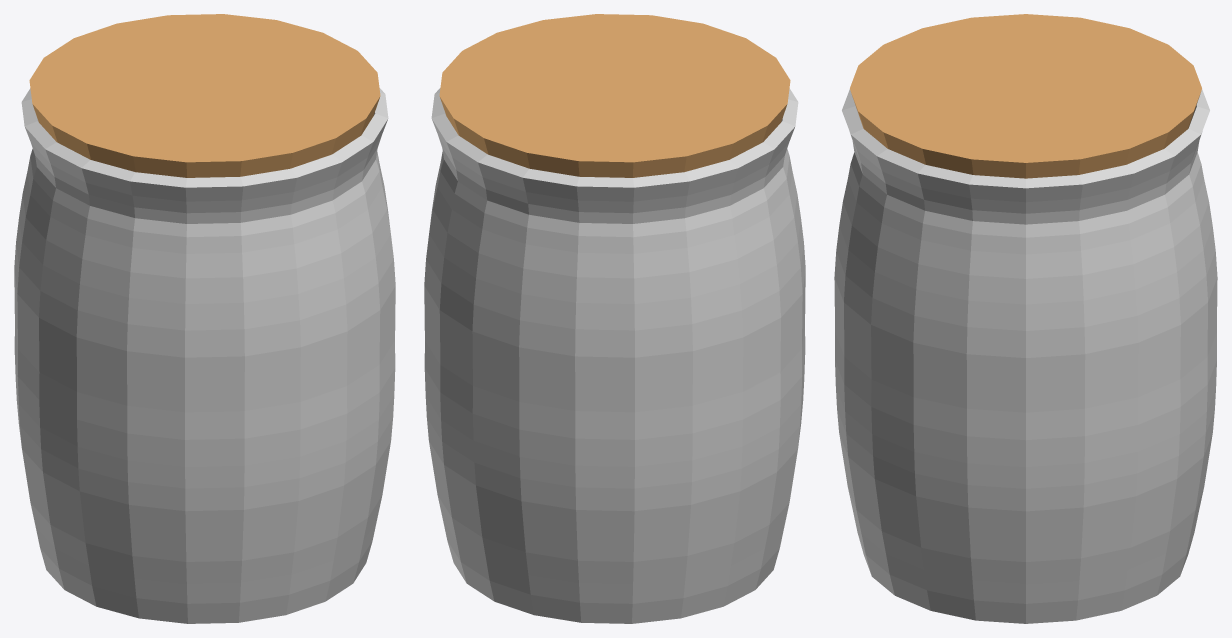
File: Magic Jar.fbx
The picture shows the model from 3 angles, left to right: view 1: azimuth 30°, elevation 25°; view 2: azimuth 150°, elevation 25°; view 3: azimuth 270°, elevation 25°; orthographic projection.
Parts seen in each view (by area): view 1: Jar 1; view 2: Jar 1; view 3: Jar 1.
Boxes of the visible parts, x1,y1,x2,y2 form: Jar 1: (14,14,395,623); Jar 1: (424,14,805,623); Jar 1: (834,14,1217,623).
Size of the model in its own units: 27.31 by 36.73 by 27.31.
